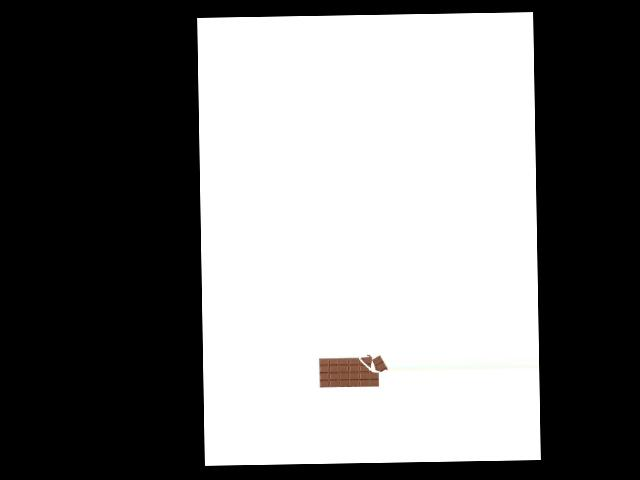chocolate: (318, 347, 388, 392)
